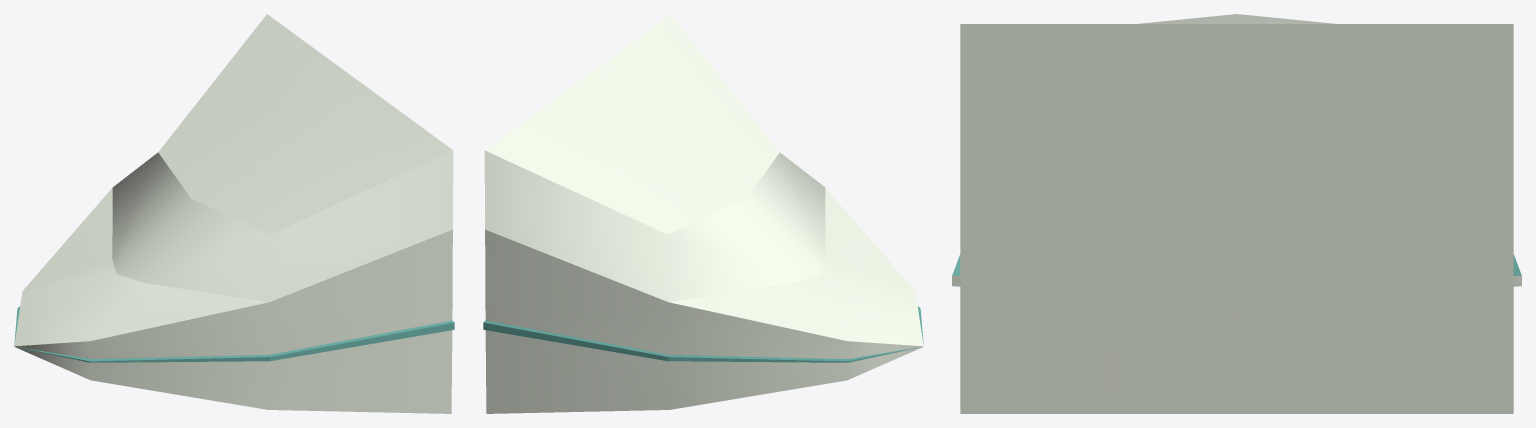
The model's file is Plane_Head.FBX.
3 renders of one model, left to right at view 1: azimuth 30°, elevation 25°; view 2: azimuth 150°, elevation 25°; view 3: azimuth 270°, elevation 25°, orthographic. The views are drawn at different scales.
Visible parts, largest first — view 1: SM_Plane_Head; view 2: SM_Plane_Head; view 3: SM_Plane_Head.
Boxes of the visible parts, x1=… form: SM_Plane_Head: x1=14, y1=14, x2=454, y2=413; SM_Plane_Head: x1=483, y1=14, x2=923, y2=413; SM_Plane_Head: x1=952, y1=14, x2=1521, y2=413.
Bounding box in the file's own units: 68.36 × 49.7 × 65.57.
